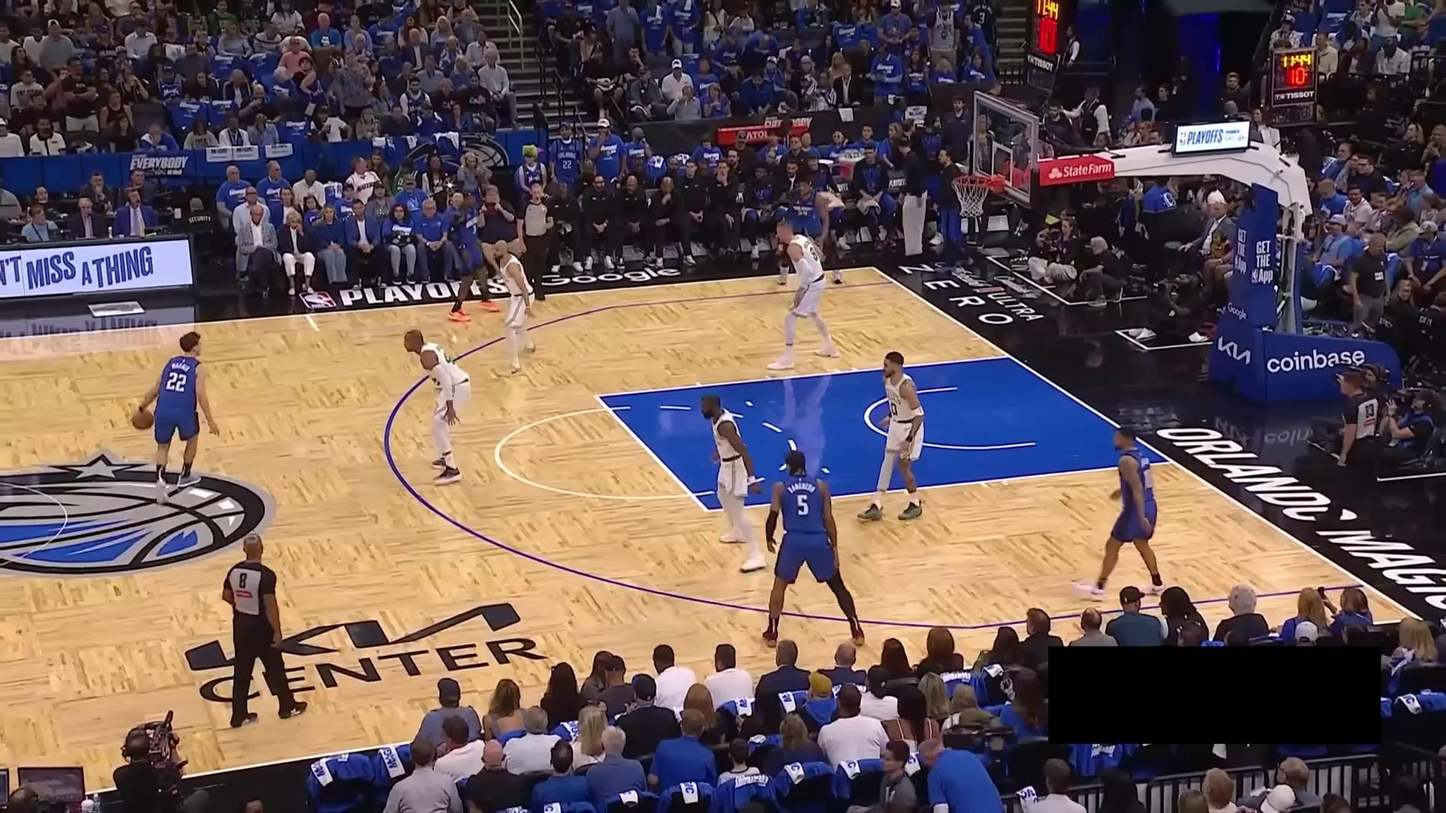ball: (132, 410, 154, 430)
number: (166, 371, 187, 392), (796, 494, 810, 516), (888, 400, 899, 416), (809, 247, 819, 262), (472, 224, 477, 235)
player: (761, 449, 866, 649), (1070, 422, 1165, 603), (856, 351, 927, 523), (700, 392, 767, 574), (767, 221, 840, 372), (403, 328, 472, 486), (447, 185, 502, 322), (775, 174, 837, 288), (489, 238, 538, 378)
player-in-possession: (132, 332, 220, 504)
referee: (221, 533, 309, 729), (1313, 370, 1394, 539), (516, 181, 555, 303)
rim: (951, 175, 992, 187)
